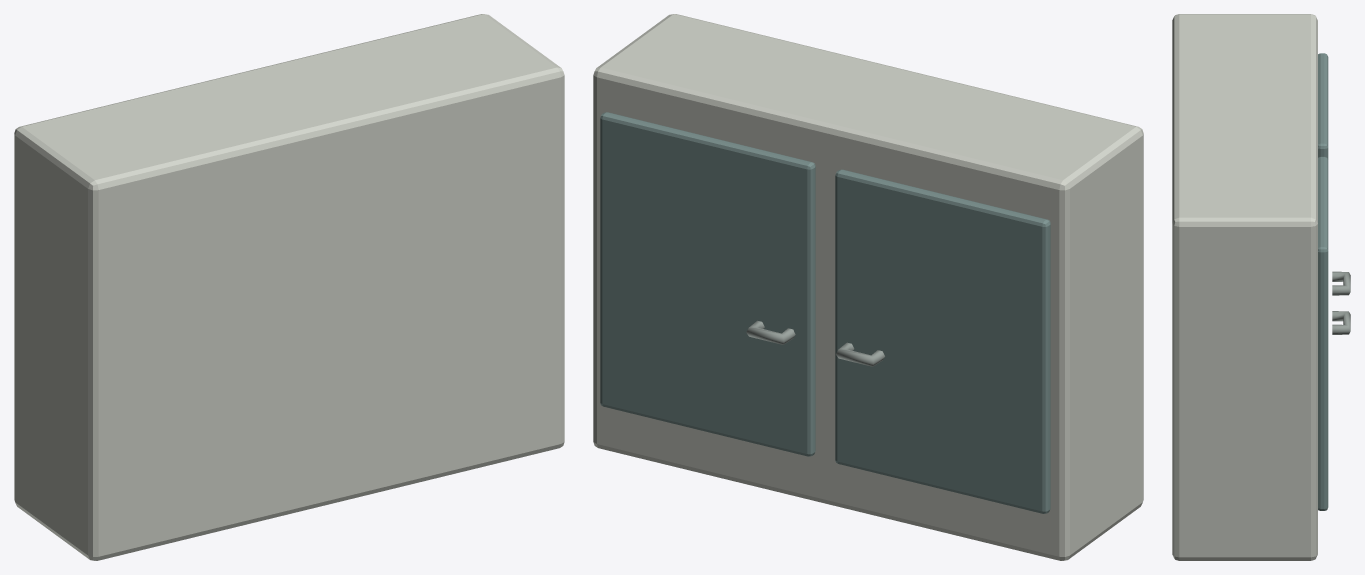
The model's file is medicine_cabinet.glb.
3 renders of one model, left to right at view 1: azimuth 30°, elevation 25°; view 2: azimuth 150°, elevation 25°; view 3: azimuth 270°, elevation 25°, orthographic. The views are drawn at different scales.
Parts seen in each view (by area): view 1: KitIvory; view 2: KitFabric, KitIvory, KitSteel; view 3: KitIvory, KitFabric, KitSteel.
Part boxes in pixels (bbox=[...]): KitIvory: bbox=[14, 14, 564, 560]; KitFabric: bbox=[600, 112, 1050, 513]; KitIvory: bbox=[593, 14, 1143, 560]; KitSteel: bbox=[746, 320, 884, 366]; KitIvory: bbox=[1172, 14, 1317, 560]; KitFabric: bbox=[1318, 53, 1328, 510]; KitSteel: bbox=[1332, 271, 1350, 334].
Bounding box in the file's own units: 0.85 × 0.65 × 0.3064.
